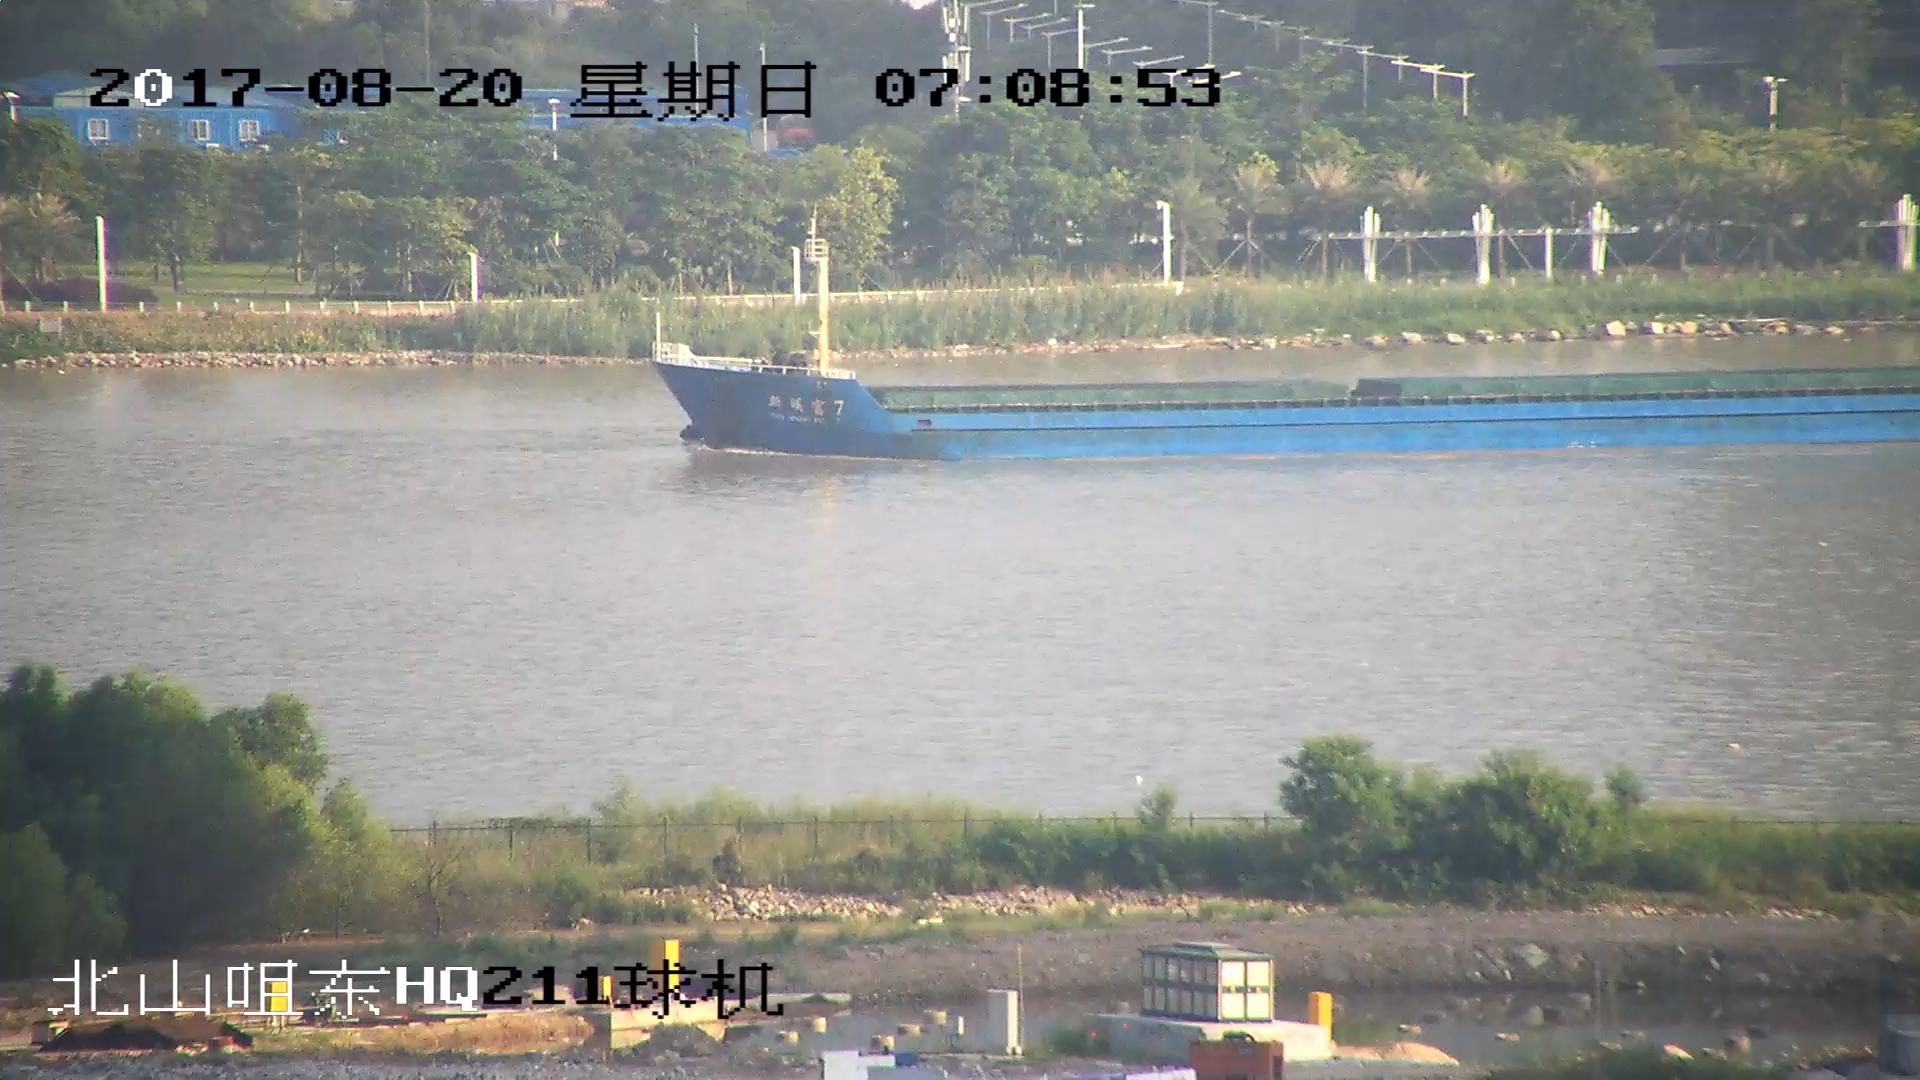general cargo ship: (655, 234, 1920, 469)
